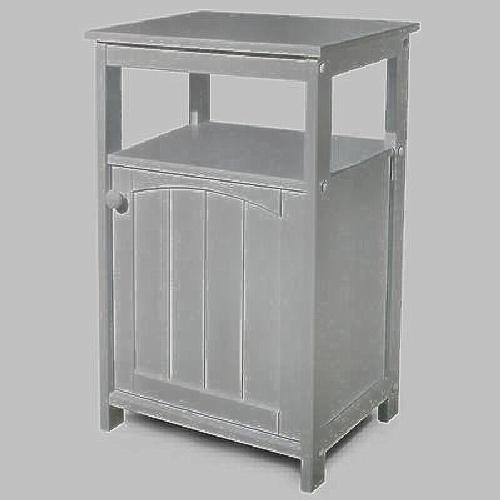cabinet: (93, 7, 417, 471)
